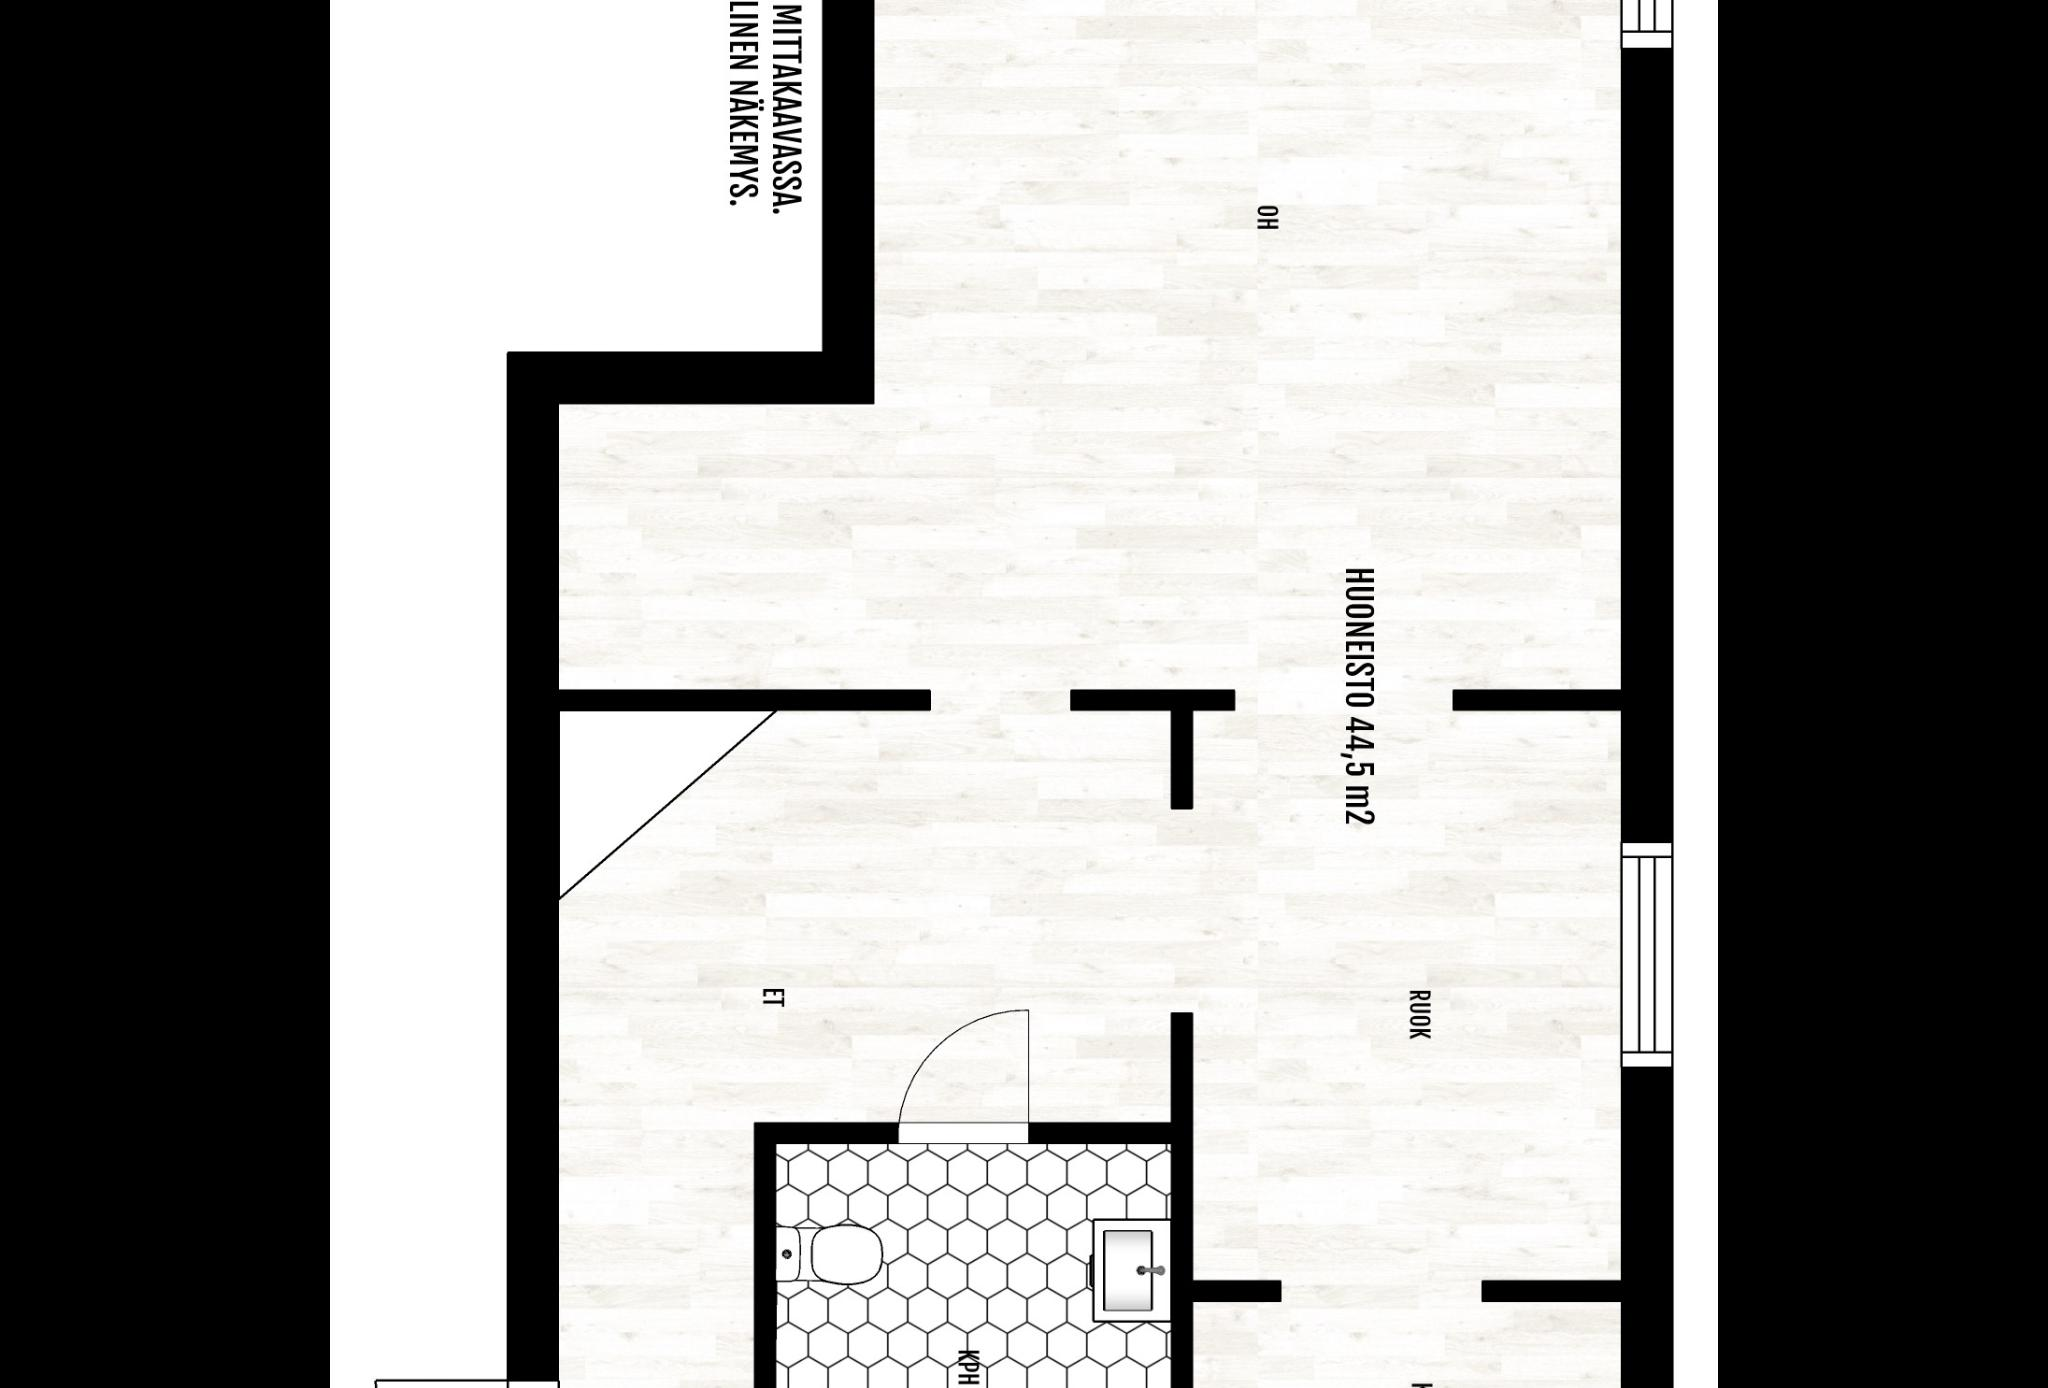door: (878, 1001, 1039, 1157)
window: (1611, 829, 1685, 1078), (1606, 0, 1685, 71)
